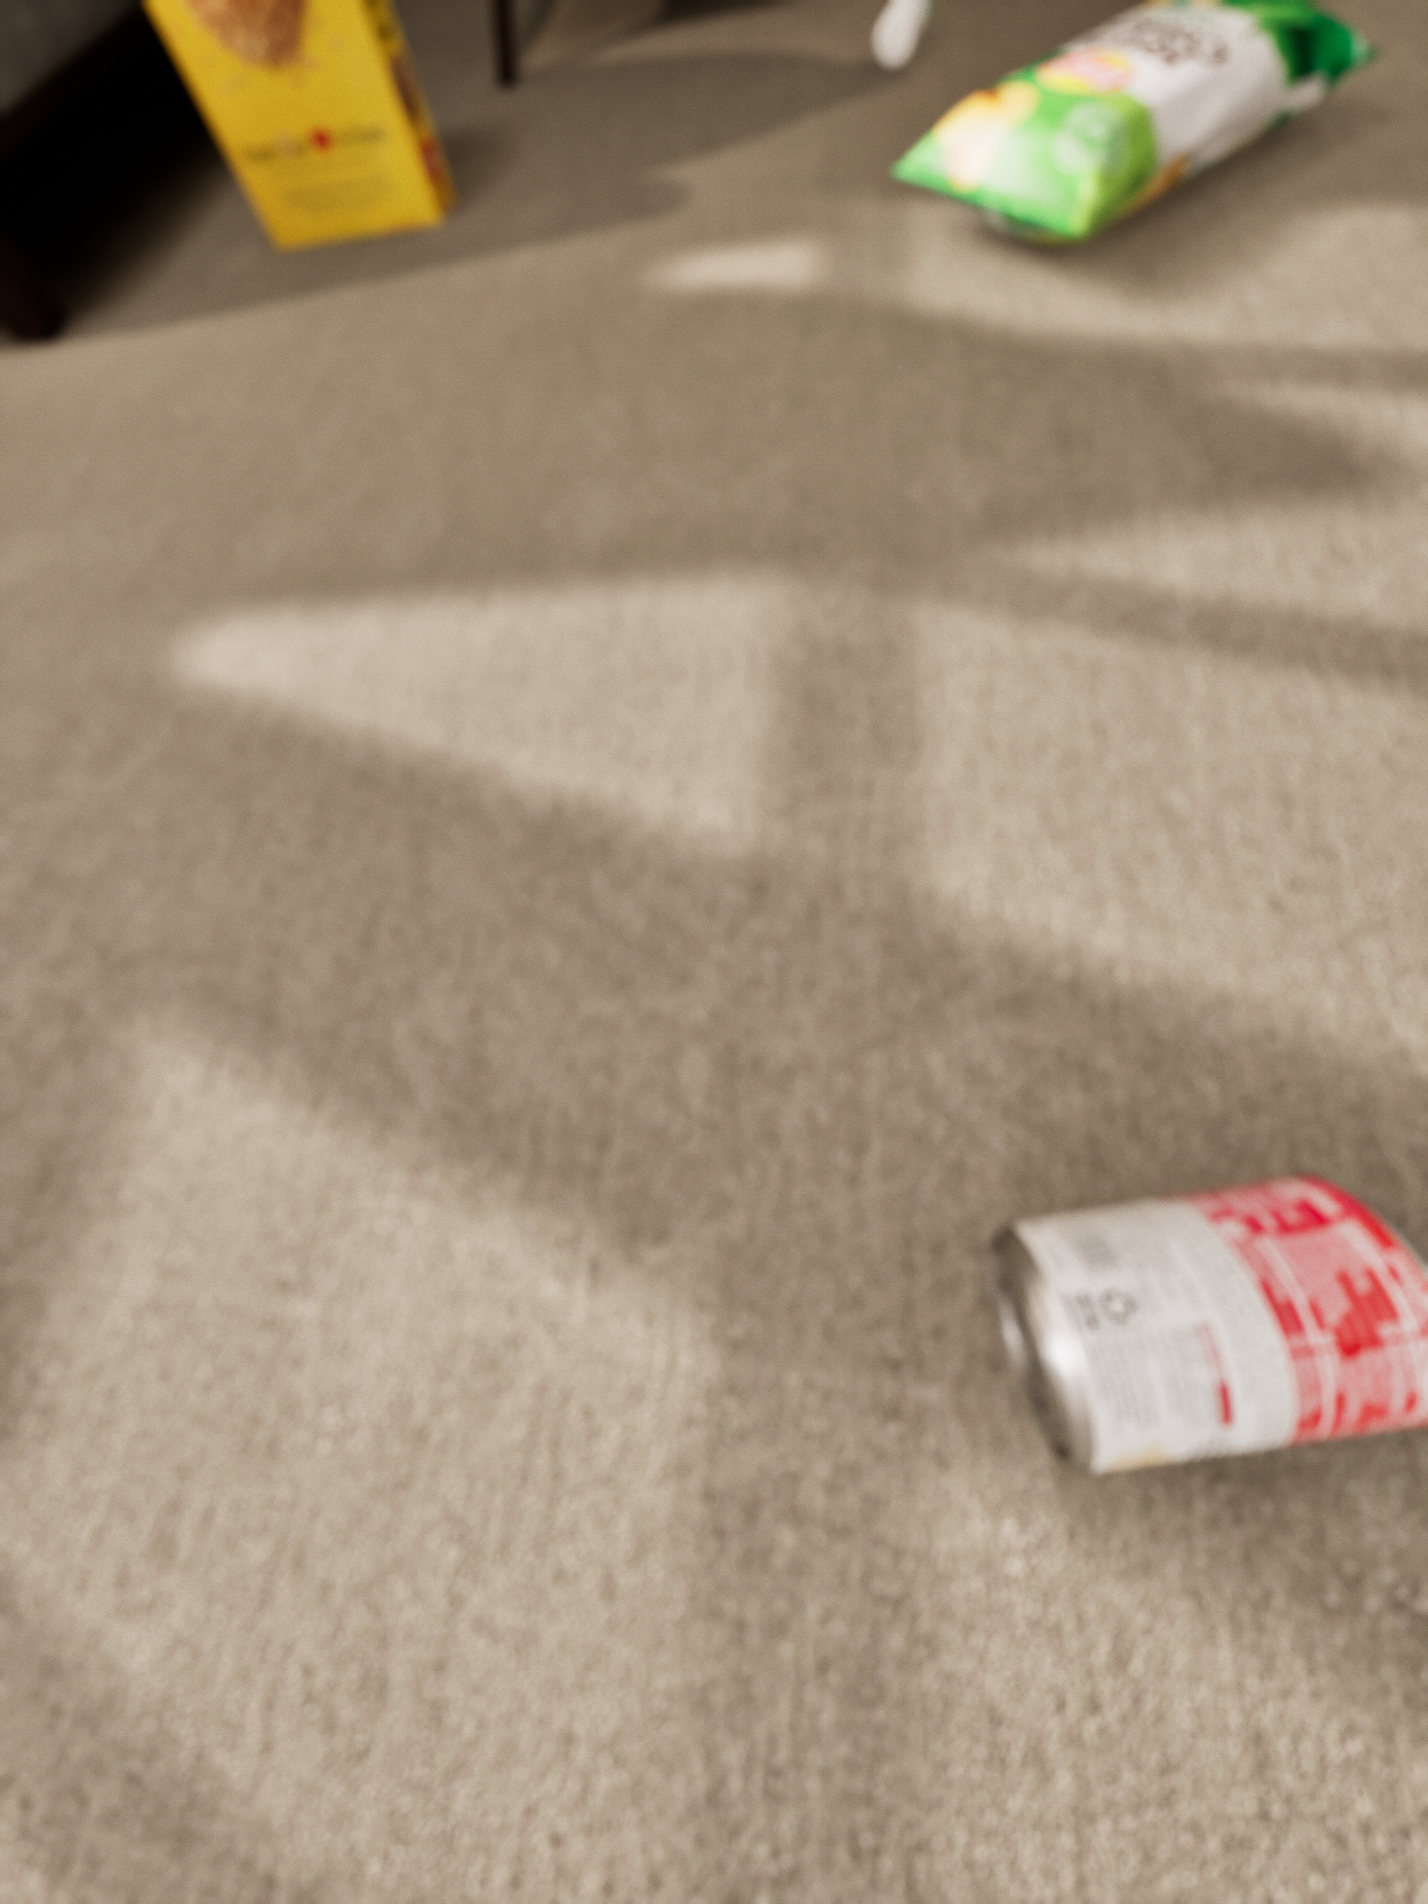cheerios: (145, 0, 454, 249)
soup: (988, 1172, 1428, 1471)
